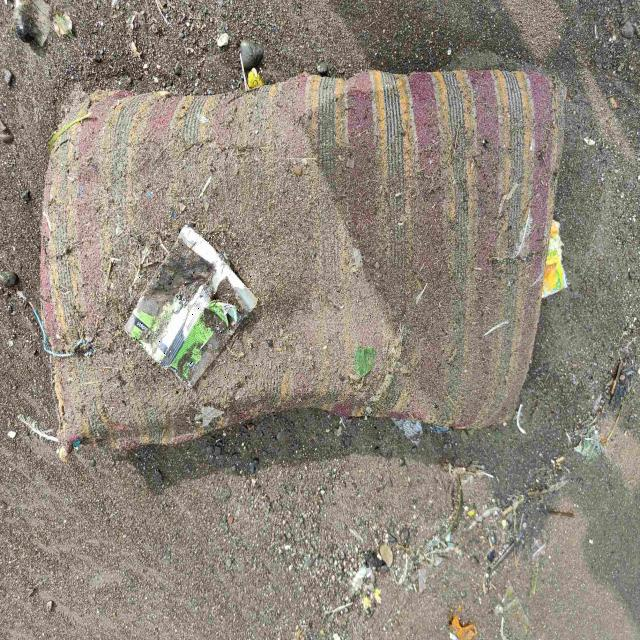wrapper: (124, 226, 257, 388)
